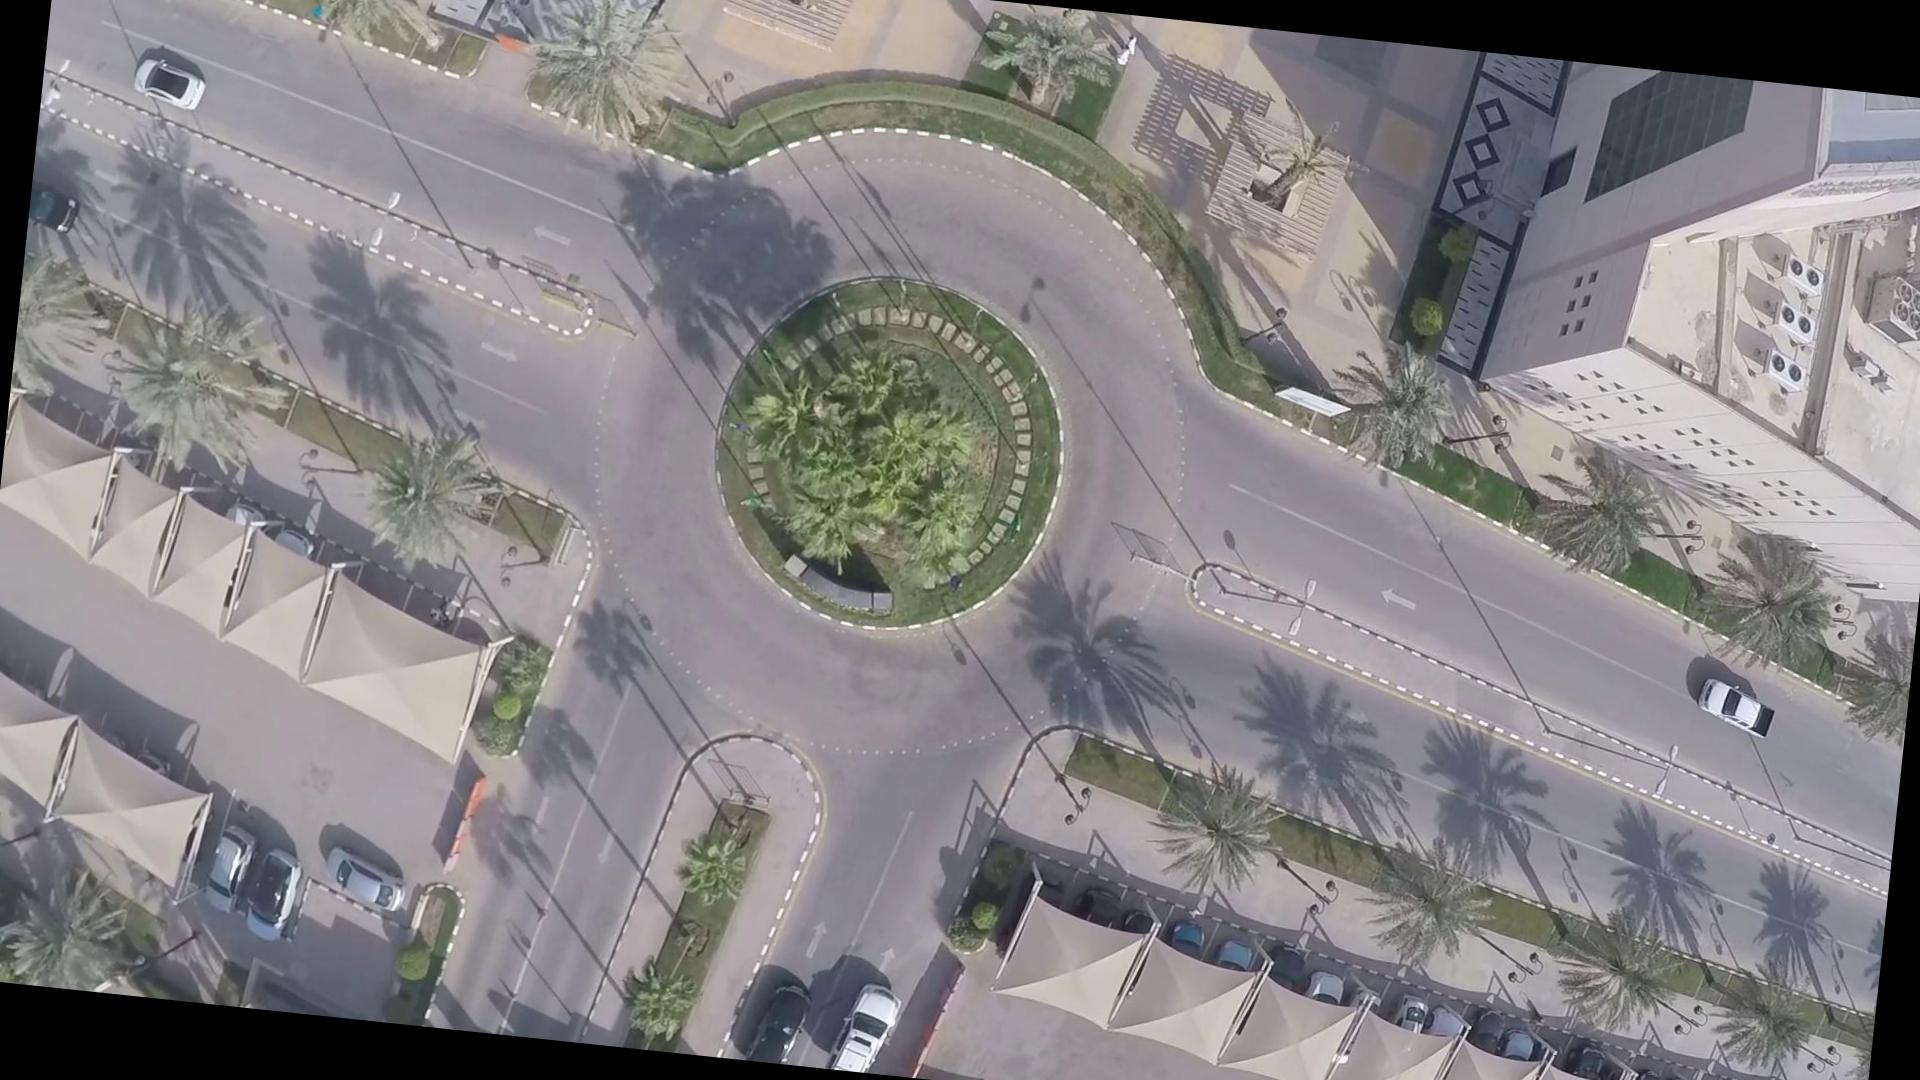vehicle: (1691, 671, 1779, 748), (135, 50, 223, 125), (849, 978, 905, 1075), (767, 963, 818, 1065), (28, 187, 86, 243)
